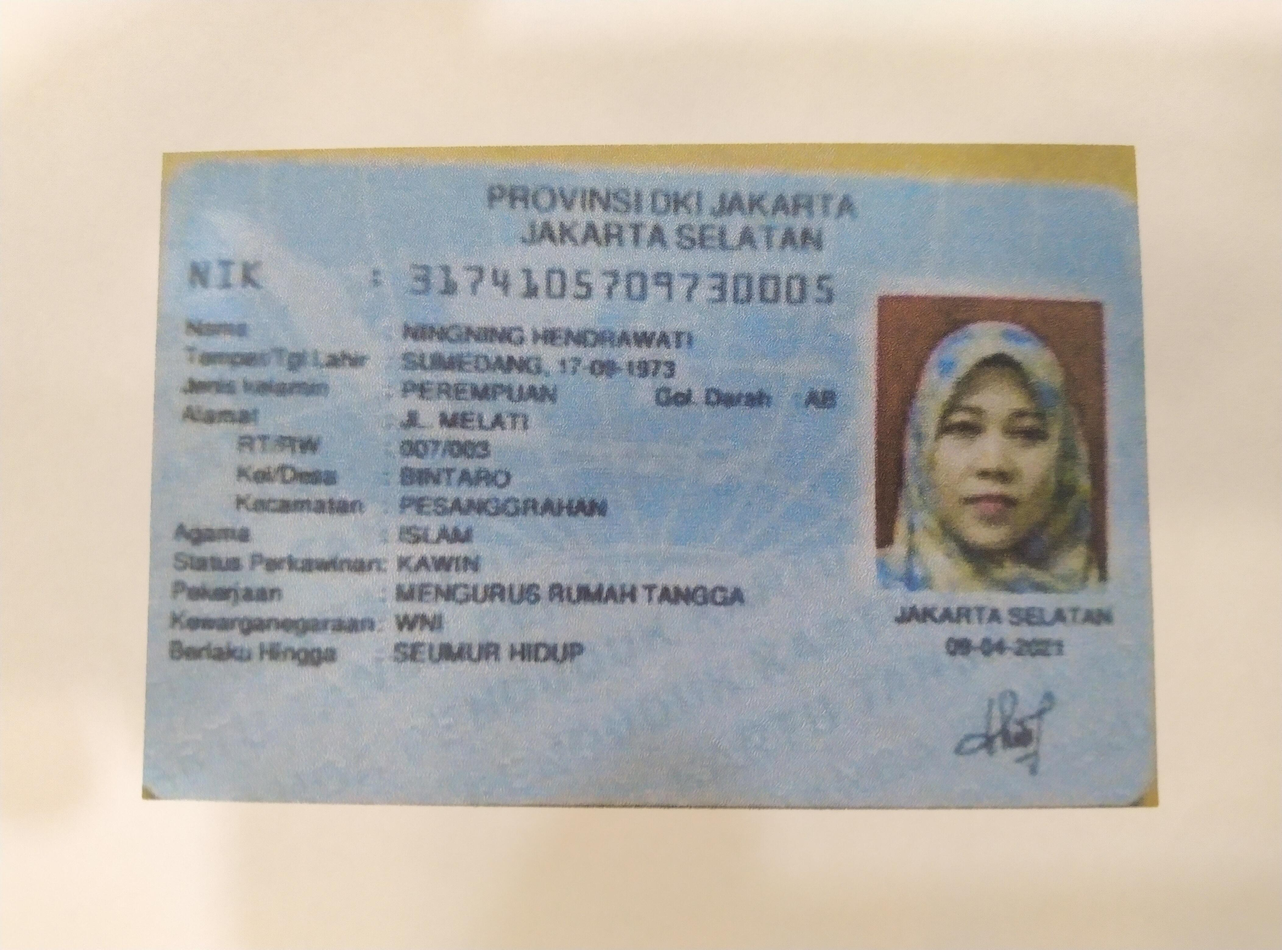ID-card: (141, 157, 1149, 803)
